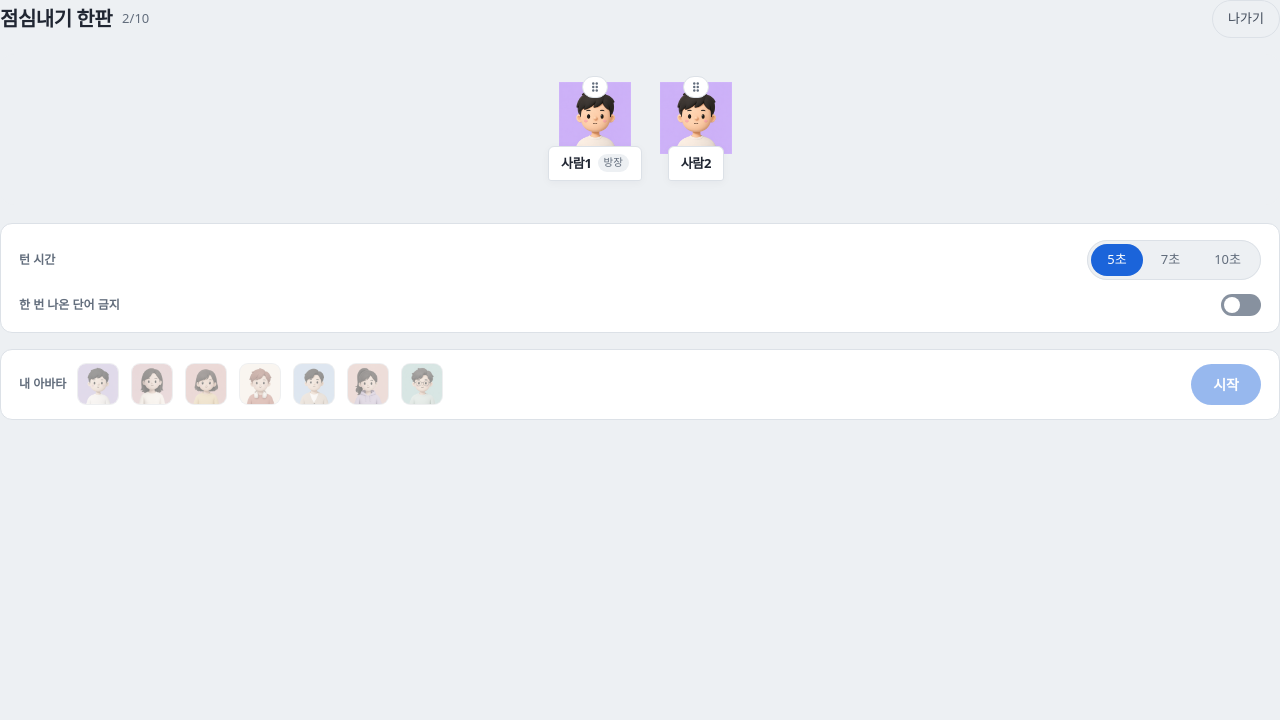
RoomView › 양도를 취소하면 알리지 않는다
This screenshot has width=1280, height=720.
Click the button with aria-label "사람2 님에게 방장 넘기기" at (696, 131), box [660,82,732,181]
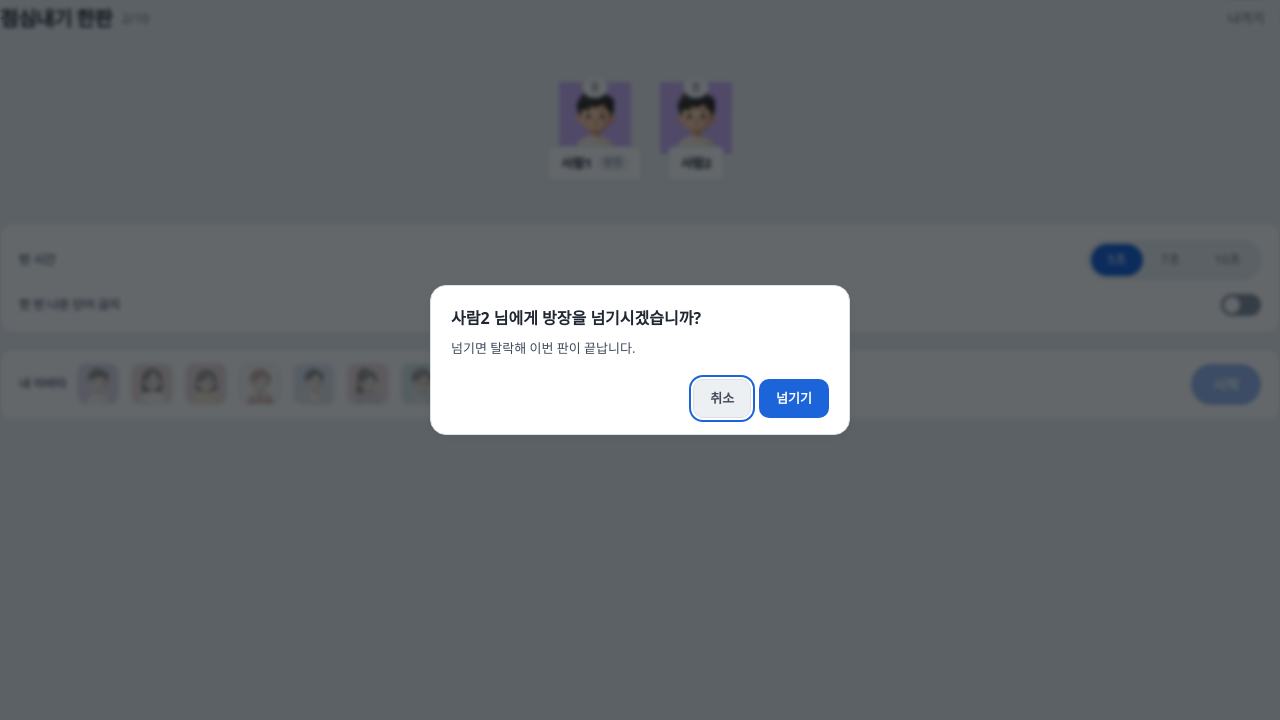
Click the button "취소" at (722, 399), box [693,379,751,418]
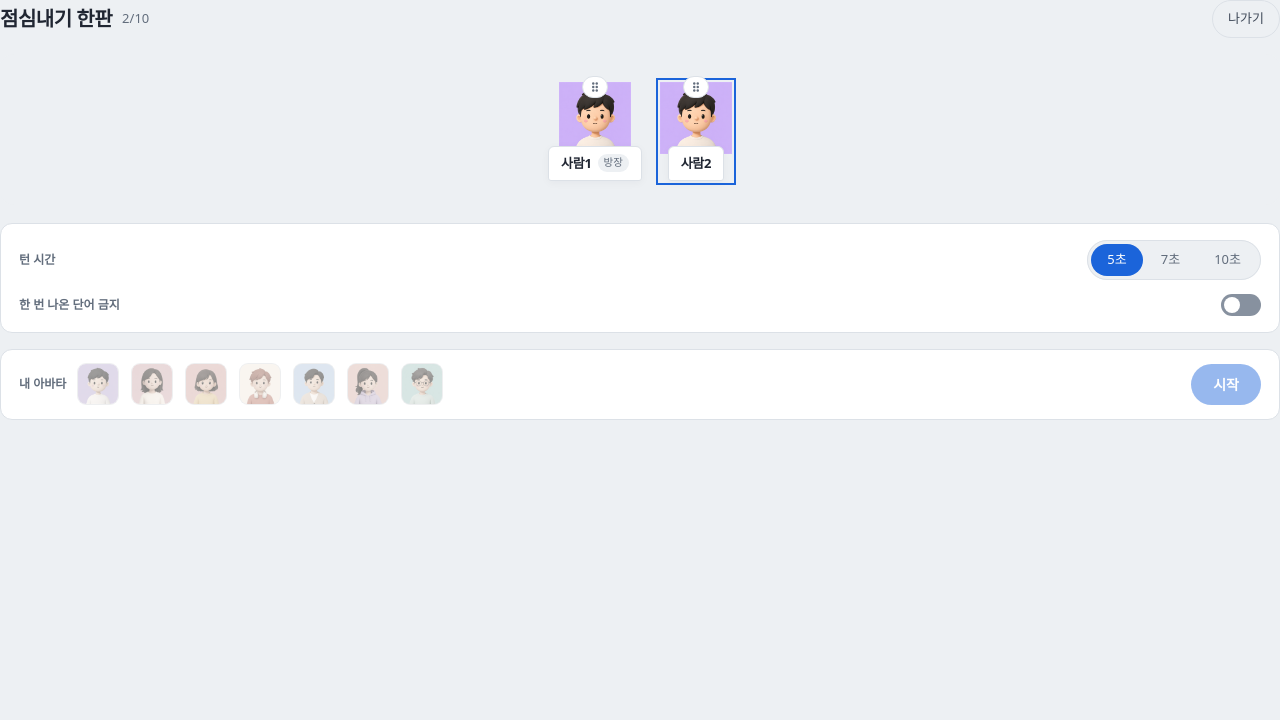
Now the dialog is gone
